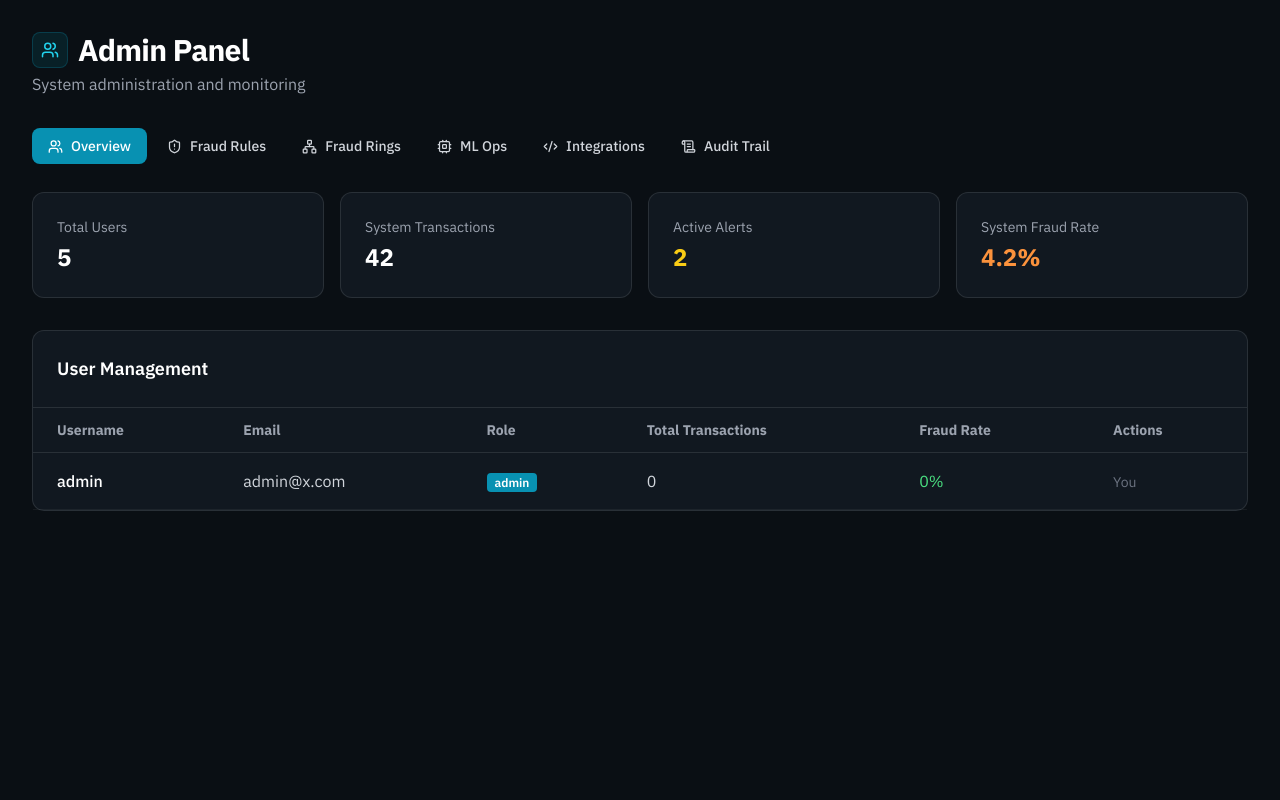
Test: AdminPage — Fraud Rules tab › lists existing rules and lets an admin create a new one
Expected: the heading "User Management" is shown, left=57, top=357, right=208, bottom=380
Click the button "Fraud Rules" at (217, 146), box left=151, top=128, right=282, bottom=164
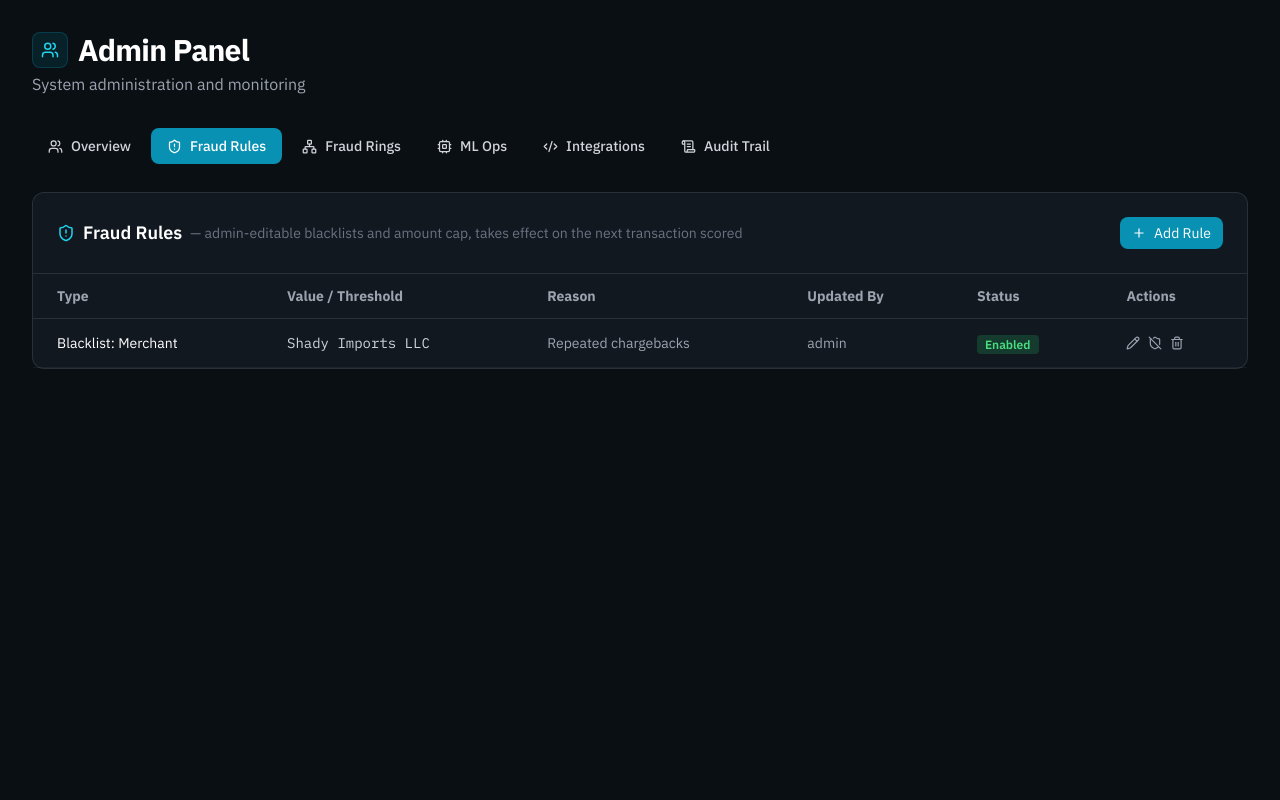
Now the text "Shady Imports LLC" is shown, box left=263, top=318, right=523, bottom=368
Now the text "Repeated chargebacks" is shown, box left=523, top=318, right=783, bottom=368
Click the button "Add Rule" at (1172, 233), box left=1120, top=217, right=1223, bottom=249
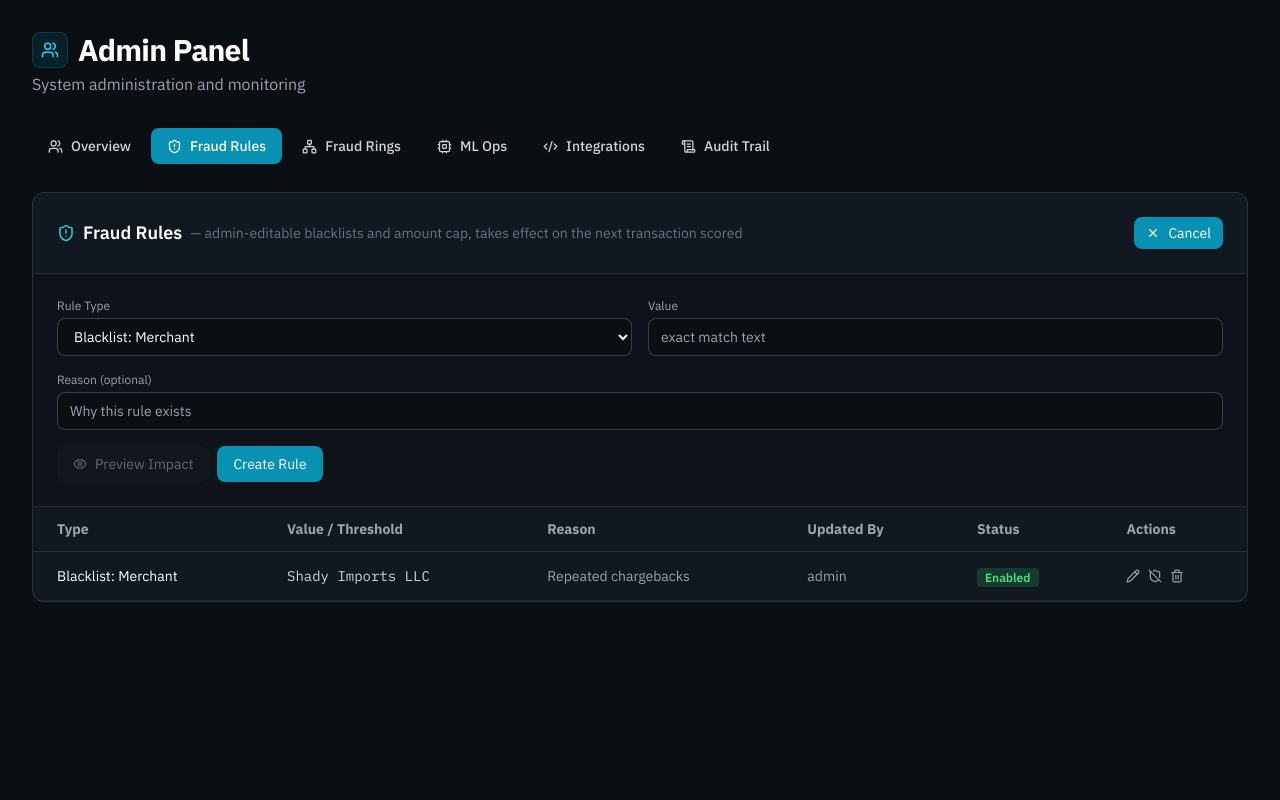
Select "Blacklist: IP" in the dropdown showing "Blacklist: Merchant" at (344, 337), box left=57, top=318, right=632, bottom=356
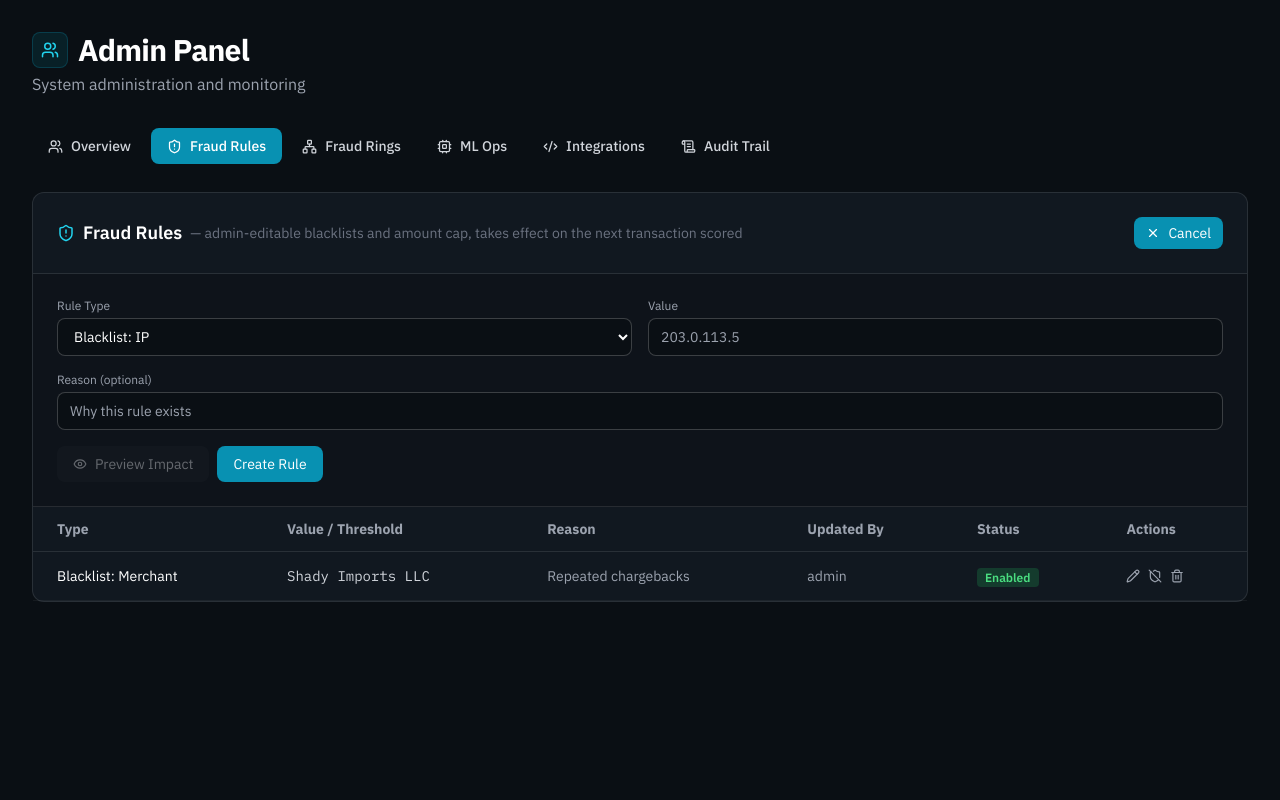
Type "203.0.113.9" into the field with placeholder "203.0.113.5" at (936, 337), box left=648, top=318, right=1223, bottom=356
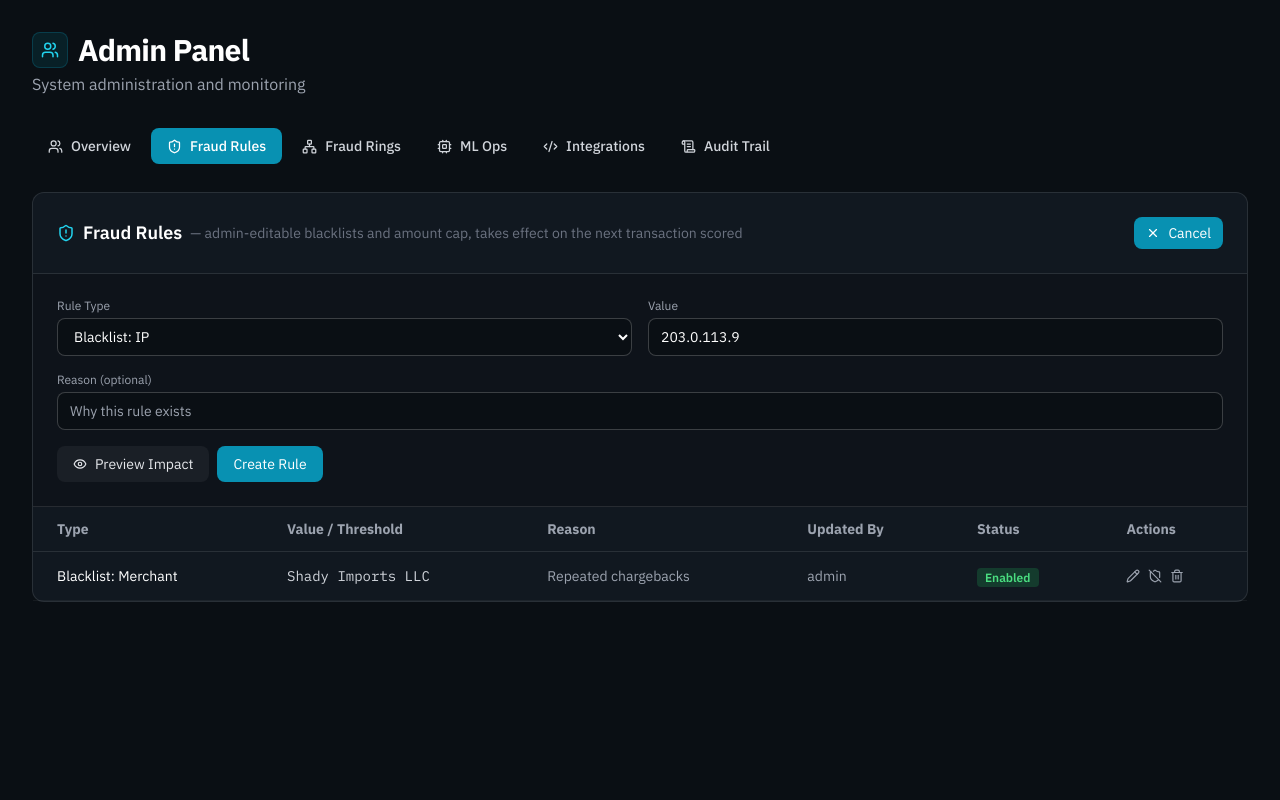
Type "Testing farm" into the field with placeholder "Why this rule exists" at (640, 411), box left=57, top=392, right=1223, bottom=430
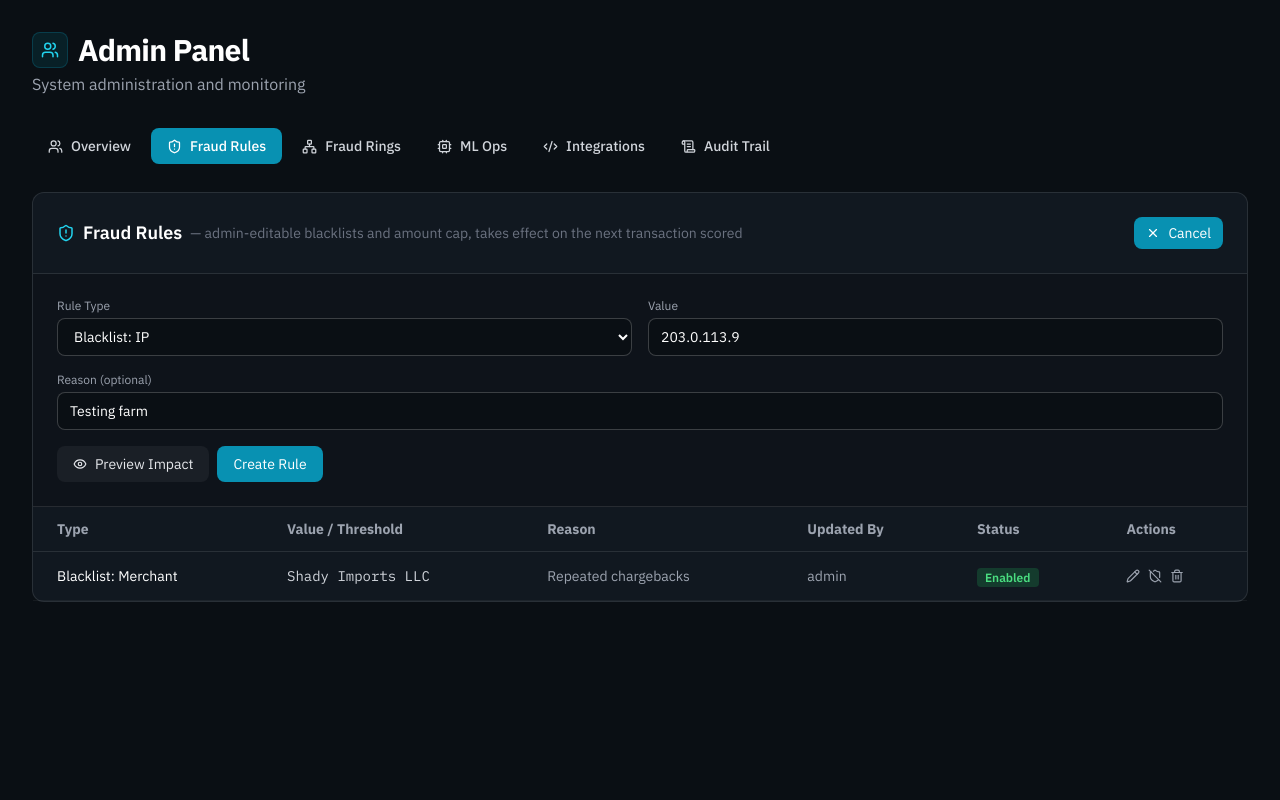
Click the button "Create Rule" at (270, 464), box left=217, top=446, right=323, bottom=482
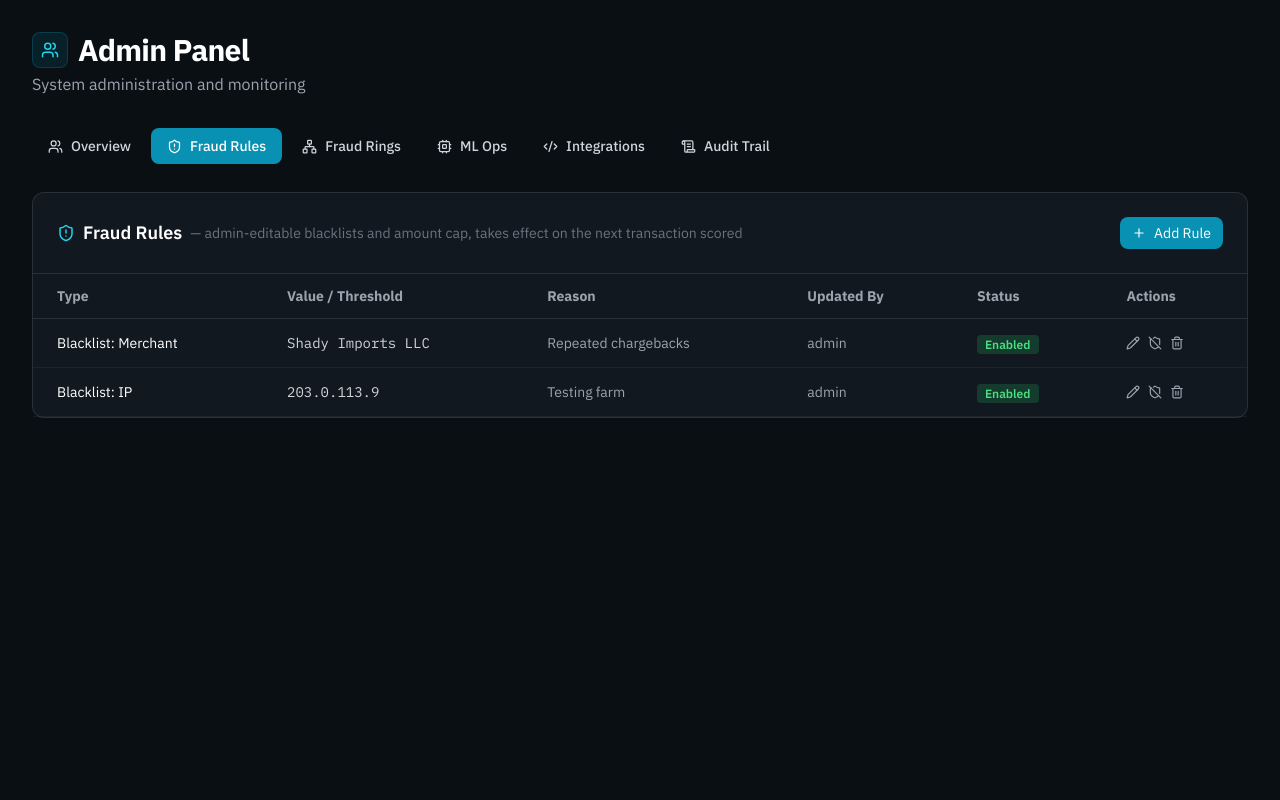
Now the text "203.0.113.9" is shown, box left=263, top=368, right=523, bottom=416
